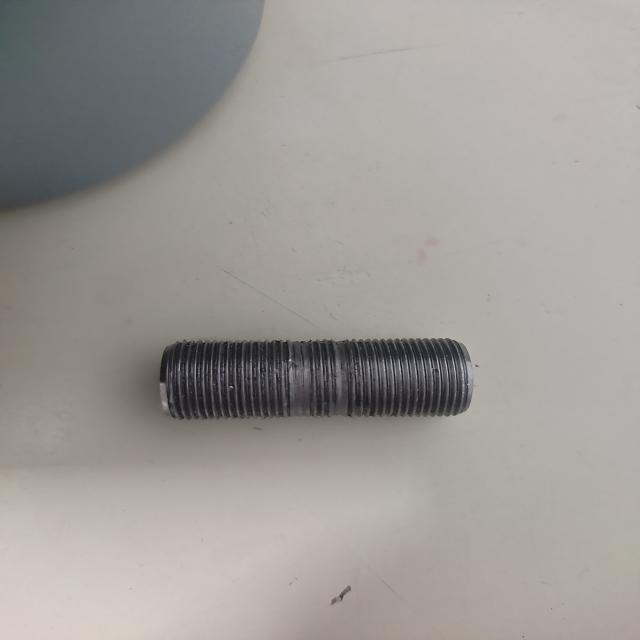Broken: (161, 339, 471, 421)
